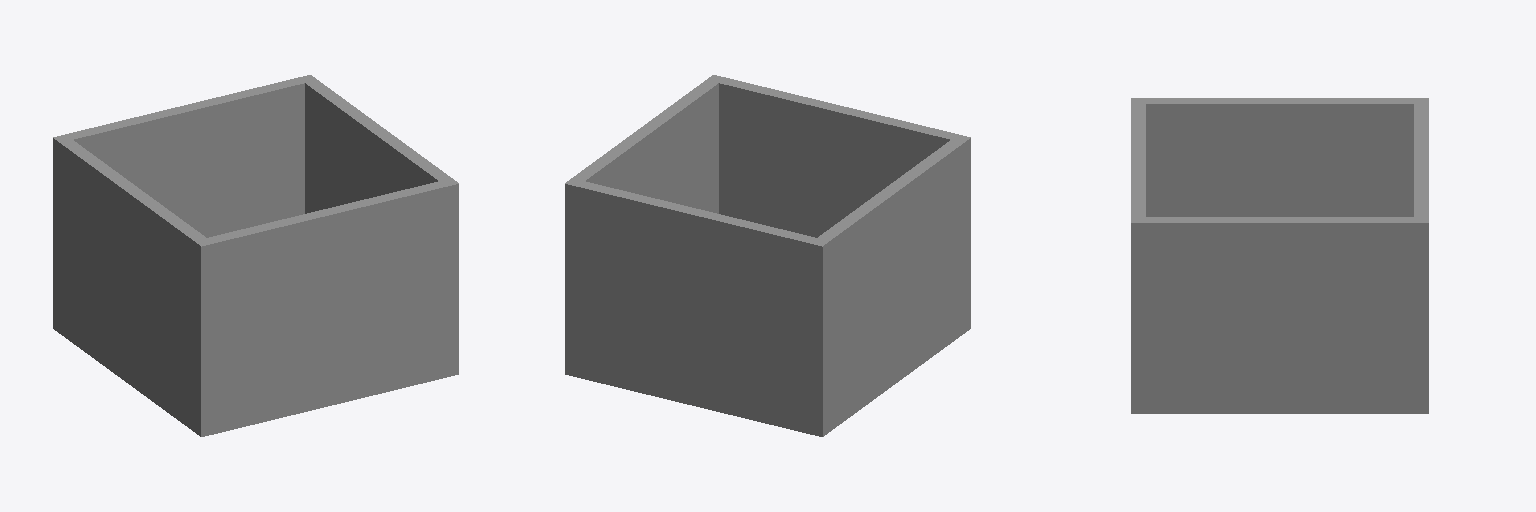
The model's file is gate20.obj.
3 views of the same model, side by side, from view 1: azimuth 30°, elevation 25°; view 2: azimuth 150°, elevation 25°; view 3: azimuth 270°, elevation 25° (orthographic).
Visible parts, largest first — view 1: Cylinder; view 2: Cylinder; view 3: Cylinder.
Boxes of the visible parts, <box> form: Cylinder: <box>53,75,458,436</box>; Cylinder: <box>565,75,970,436</box>; Cylinder: <box>1131,98,1428,413</box>.
Size of the model in its own units: 1.41 by 1 by 1.41.